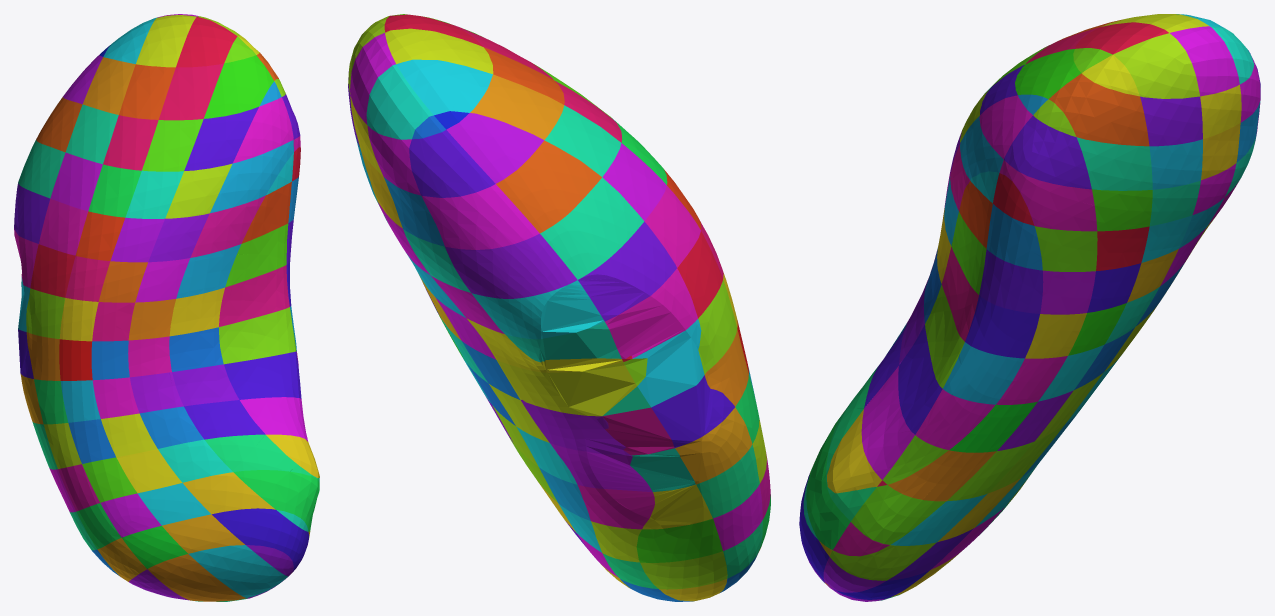
The model's file is kidney-male-right-vu.glb.
The picture shows the model from 3 angles, left to right: view 1: azimuth 30°, elevation 25°; view 2: azimuth 150°, elevation 25°; view 3: azimuth 270°, elevation 25°; orthographic projection. The views are drawn at different scales.
Visible parts, largest first — view 1: G-8-I, E-13-I, D-14-I, G-9-I, E-2-I, G-7-I, F-4-I, F-12-I, E-3-I, F-11-I, D-2-I, C-14-I (+70 smaller); view 2: A-4-II, A-4-I, A-3-I, A-3-II, A-5-I, B-7-II, A-5-II, A-6-I, A-2-II, A-2-I, B-1-I, A-7-I (+48 smaller); view 3: E-2-II, F-3-II, D-1-II, F-4-II, G-10-I, E-3-II, F-11-II, G-8-II, G-7-II, F-10-II, G-6-II, C-1-II (+61 smaller).
Part boxes in pixels (x1,y1,x2,y2): G-8-I: [219, 307, 296, 364]; E-13-I: [212, 508, 309, 571]; D-14-I: [189, 545, 287, 597]; G-9-I: [224, 351, 301, 399]; E-2-I: [204, 55, 273, 118]; G-7-I: [219, 265, 289, 326]; F-4-I: [210, 140, 293, 213]; F-12-I: [234, 470, 319, 531]; E-3-I: [184, 107, 258, 170]; F-11-I: [205, 434, 319, 482]; D-2-I: [158, 63, 223, 120]; C-14-I: [147, 554, 246, 601]; A-4-II: [445, 233, 577, 298]; A-4-I: [540, 177, 644, 279]; A-3-I: [496, 140, 601, 233]; A-3-II: [421, 184, 539, 249]; A-5-I: [578, 221, 676, 321]; B-7-II: [496, 360, 636, 416]; A-5-II: [471, 280, 604, 339]; A-6-I: [605, 268, 697, 358]; A-2-II: [409, 130, 495, 197]; A-2-I: [446, 113, 543, 183]; B-1-I: [396, 59, 492, 115]; A-7-I: [633, 319, 704, 407]; E-2-II: [1049, 73, 1149, 146]; F-3-II: [1004, 115, 1091, 189]; D-1-II: [1113, 33, 1199, 98]; F-4-II: [999, 160, 1097, 231]; G-10-I: [861, 366, 914, 479]; E-3-II: [1076, 137, 1152, 190]; F-11-II: [851, 485, 945, 544]; G-8-II: [943, 342, 1024, 404]; G-7-II: [965, 295, 1039, 358]; F-10-II: [888, 450, 996, 501]; G-6-II: [979, 249, 1043, 313]; C-1-II: [1170, 26, 1239, 96].
Bounding box in the file's own units: 0.0652 × 0.1124 × 0.0763.
